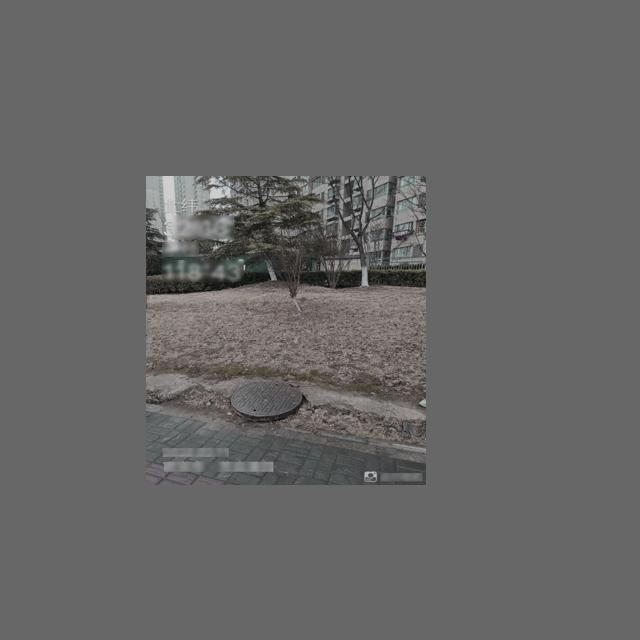circle: (229, 379, 306, 420)
